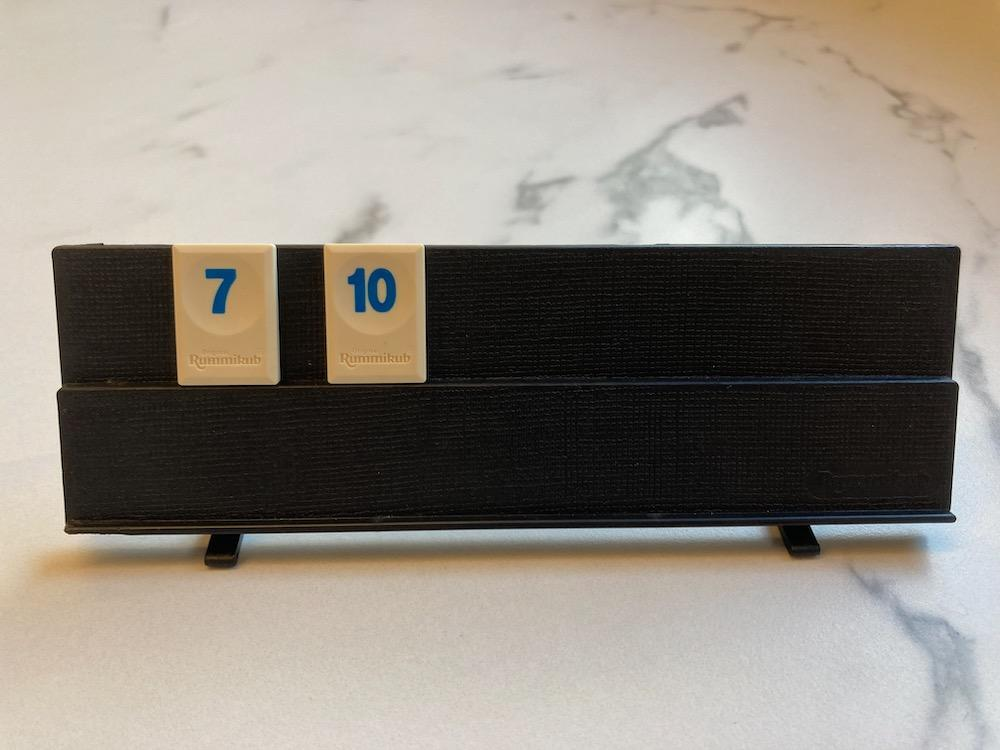blue_10: (324, 244, 424, 383)
blue_7: (172, 244, 281, 385)
